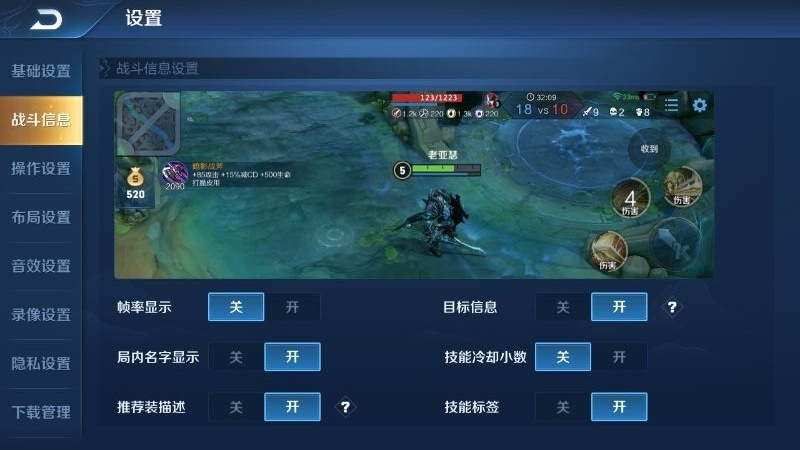return: (10, 2, 84, 33)
tag: (1, 342, 82, 376), (4, 202, 79, 237), (2, 249, 83, 279), (8, 300, 77, 329), (9, 54, 78, 83), (8, 154, 78, 182), (204, 289, 264, 320), (588, 391, 647, 422), (584, 289, 641, 319), (536, 341, 588, 372), (261, 393, 317, 420), (264, 341, 317, 367)
